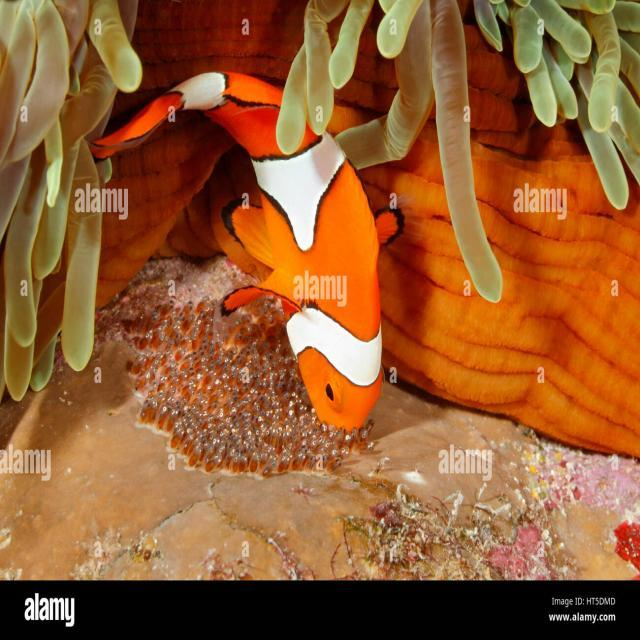ClownFish: (87, 63, 403, 430)
